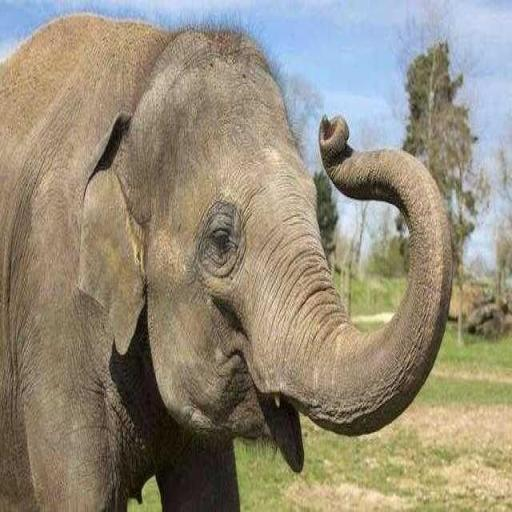Elephant: (0, 10, 453, 511)
